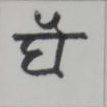au_matra: (38, 12, 73, 71)
